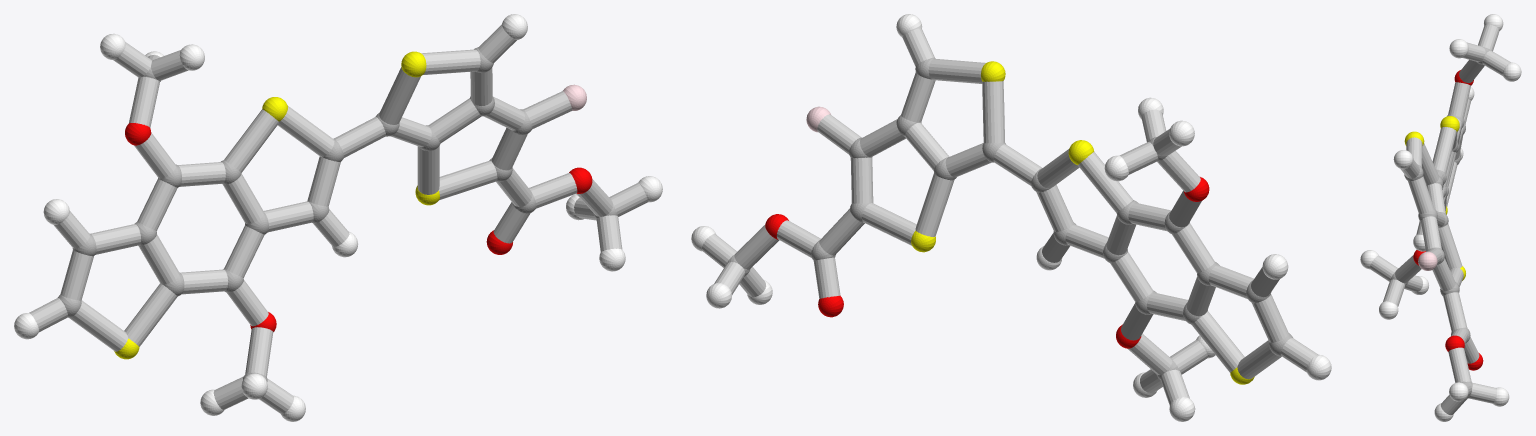
The model's file is Dimethoxy_Benzodithiophene_Phi_5_Theta_210_Methylcarbonyl_3_Fluoro_Thienothiophene.glb.
The picture shows the model from 3 angles, left to right: view 1: azimuth 30°, elevation 25°; view 2: azimuth 150°, elevation 25°; view 3: azimuth 270°, elevation 25°; orthographic projection. The views are drawn at different scales.
Parts seen in each view (by area): view 1: grp15205, grp8689, grp1, grp7241, grp13395; view 2: grp15205, grp8689, grp1, grp7241, grp13395; view 3: grp15205, grp8689, grp1, grp13395, grp7241, grp14843.
Part boxes in pixels (x1=…): grp15205: x1=29, y1=24, x2=648, y2=414; grp8689: x1=14, y1=14, x2=662, y2=421; grp1: x1=57, y1=47, x2=617, y2=381; grp7241: x1=114, y1=51, x2=439, y2=359; grp13395: x1=125, y1=123, x2=592, y2=331; grp15205: x1=701, y1=28, x2=1317, y2=405; grp8689: x1=691, y1=14, x2=1331, y2=421; grp1: x1=726, y1=57, x2=1292, y2=379; grp7241: x1=911, y1=61, x2=1254, y2=384; grp13395: x1=765, y1=177, x2=1209, y2=348; grp15205: x1=1369, y1=24, x2=1510, y2=414; grp8689: x1=1360, y1=14, x2=1521, y2=421; grp1: x1=1390, y1=47, x2=1490, y2=398; grp13395: x1=1413, y1=70, x2=1483, y2=370; grp7241: x1=1404, y1=116, x2=1465, y2=280; grp14843: x1=1418, y1=251, x2=1437, y2=270.
Bounding box in the file's own units: 16.97 × 9 × 4.96.
